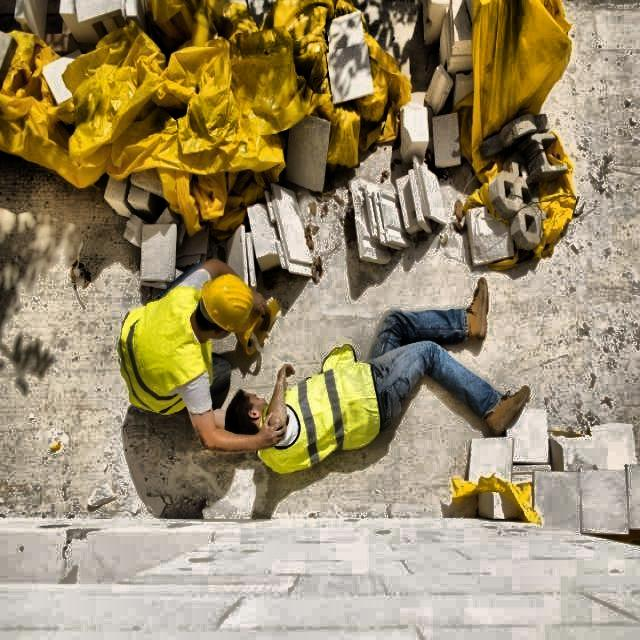safety_jacket: (252, 340, 386, 479), (115, 280, 222, 427)
